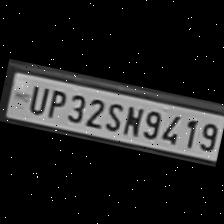1: (176, 113, 200, 148)
2: (80, 92, 106, 128)
3: (63, 88, 88, 122)
4: (157, 107, 184, 144)
9: (194, 116, 221, 153), (138, 103, 164, 140)
N: (119, 101, 145, 138)
P: (42, 84, 68, 119)
S: (100, 96, 125, 132)
U: (22, 80, 49, 114)
